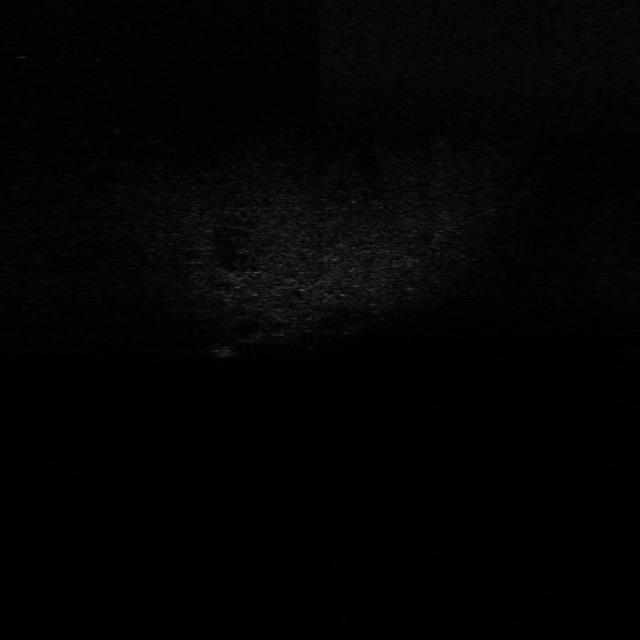cube: (208, 340, 236, 362)
